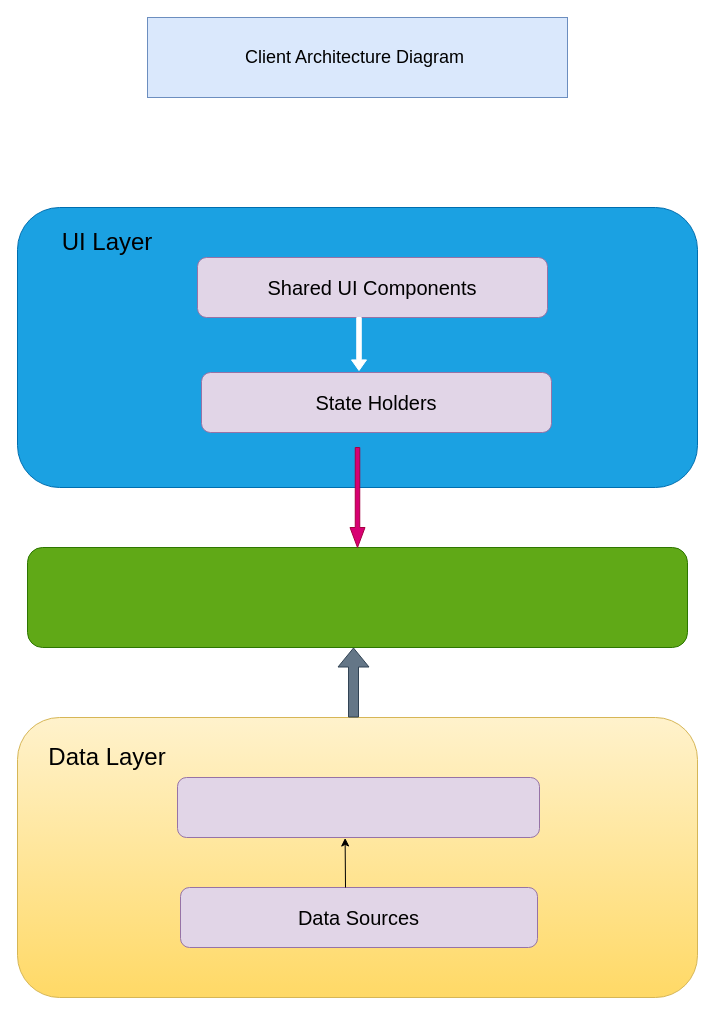
This 715x1015 diagram has some shape labels left out. Here are the shapes that lost their labels. From the top down, the centre of each, then its label:
At point 357,597: "Domain Layer".
At point 358,807: "Repositories".
